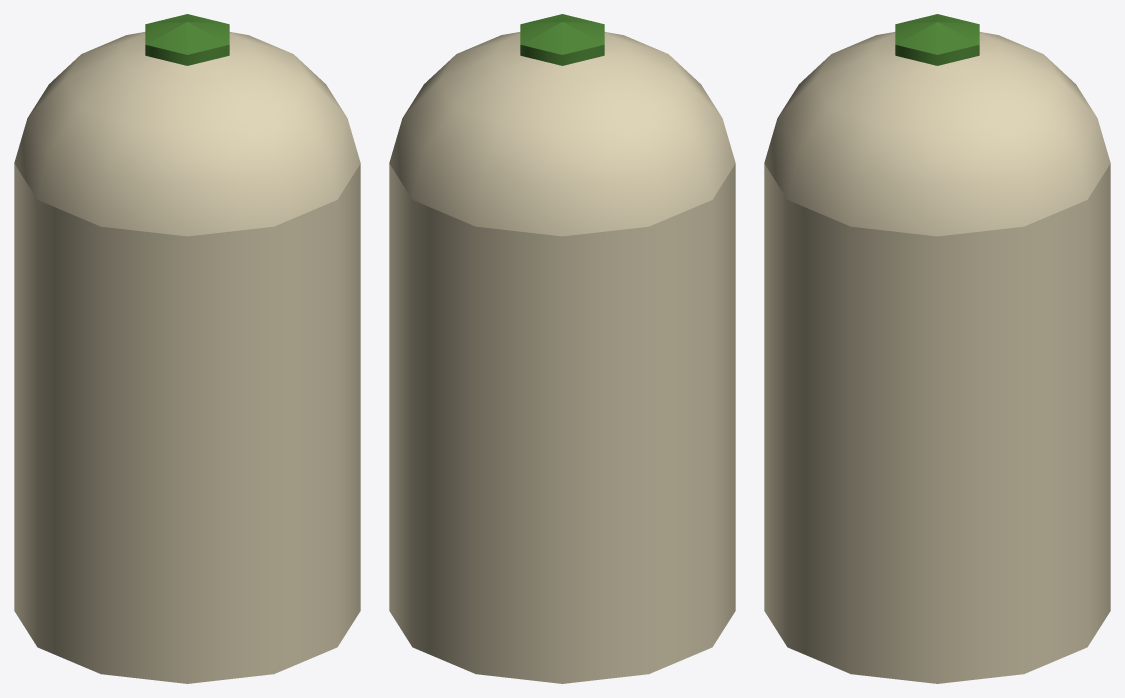
File: u500_water.obj
The picture shows the model from 3 angles, left to right: view 1: azimuth 30°, elevation 25°; view 2: azimuth 150°, elevation 25°; view 3: azimuth 270°, elevation 25°; orthographic projection.
Parts seen in each view (by area): view 1: u500_water; view 2: u500_water; view 3: u500_water.
Boxes of the visible parts, x1,y1,x2,y2 form: u500_water: [14, 14, 360, 683]; u500_water: [389, 14, 735, 683]; u500_water: [764, 14, 1110, 683].
Size of the model in its own units: 2 by 3.75 by 2.
